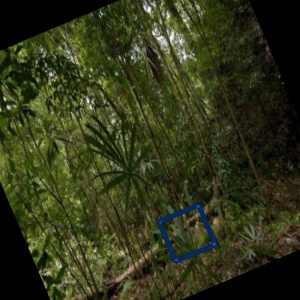square: (155, 202, 222, 264)
